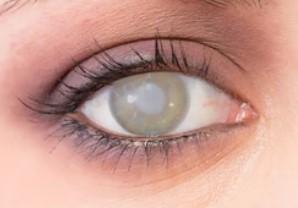eye: (108, 71, 192, 136)
